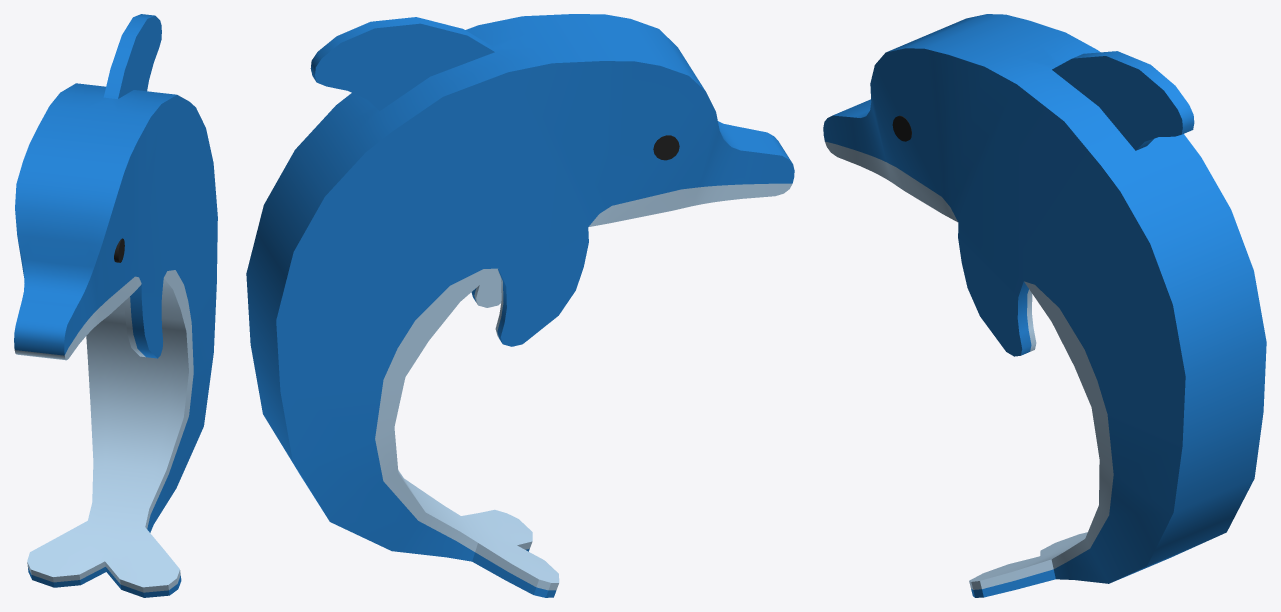
Rendered from dolphin.fbx.
3 views of the same model, side by side, from view 1: azimuth 30°, elevation 25°; view 2: azimuth 150°, elevation 25°; view 3: azimuth 270°, elevation 25° (orthographic). The views are drawn at different scales.
Parts seen in each view (by area): view 1: Plane.168; view 2: Plane.168; view 3: Plane.168.
Part boxes in pixels (x1,y1,x2,y2): Plane.168: (14,14,217,597); Plane.168: (246,14,794,597); Plane.168: (823,14,1266,597).
Size of the model in its own units: 164 by 228 by 164.
Materials: 1 (1 with a texture image).
